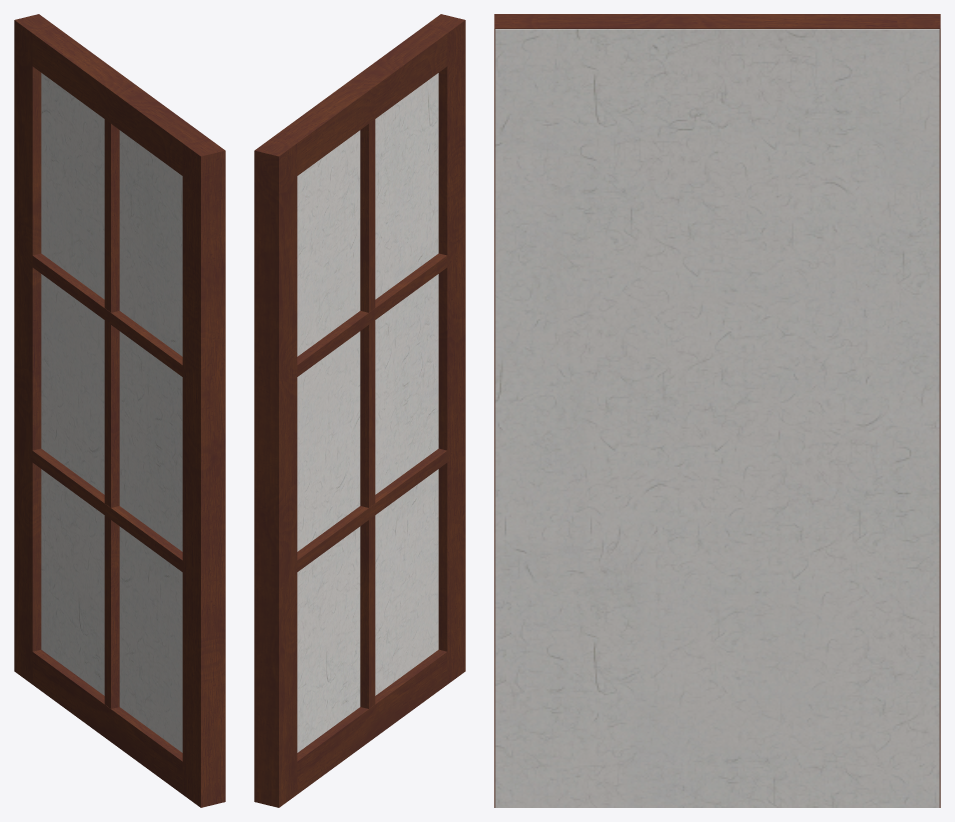
File: SM_InnerDoor01G-a.fbx
The picture shows the model from 3 angles, left to right: view 1: azimuth 30°, elevation 25°; view 2: azimuth 150°, elevation 25°; view 3: azimuth 270°, elevation 25°; orthographic projection. The views are drawn at different scales.
Visible parts, largest first — view 1: SM_InnerDoor01G-a; view 2: SM_InnerDoor01G-a; view 3: SM_InnerDoor01G-a.
Part boxes in pixels (x1,y1,x2,y2): SM_InnerDoor01G-a: (14,14,225,807); SM_InnerDoor01G-a: (254,14,465,807); SM_InnerDoor01G-a: (494,14,940,807).
Bounding box in the file's own units: 4.75 × 61 × 117.
